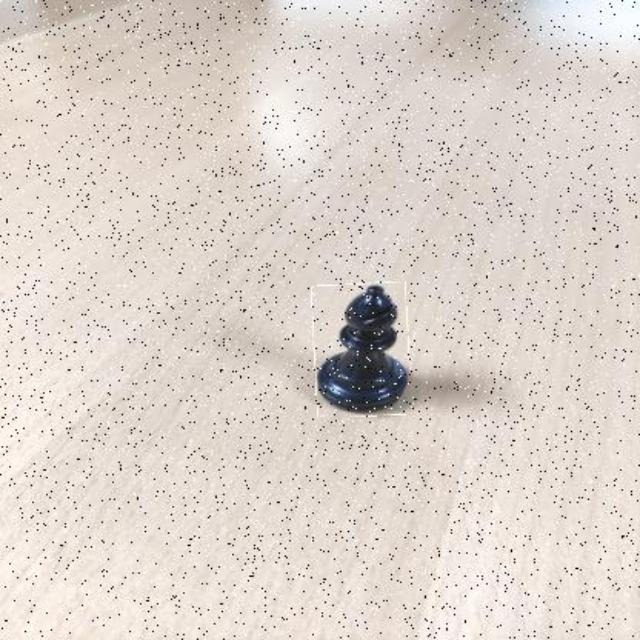black-bishop: (313, 284, 409, 417)
